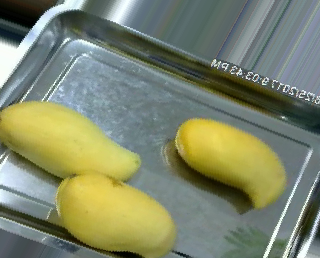Mango: (0, 100, 142, 182), (55, 170, 177, 254), (175, 116, 286, 204)
